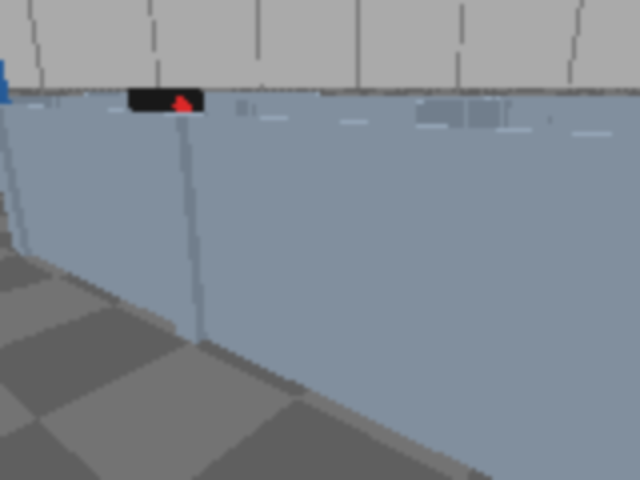person: (0, 0, 20, 170)
